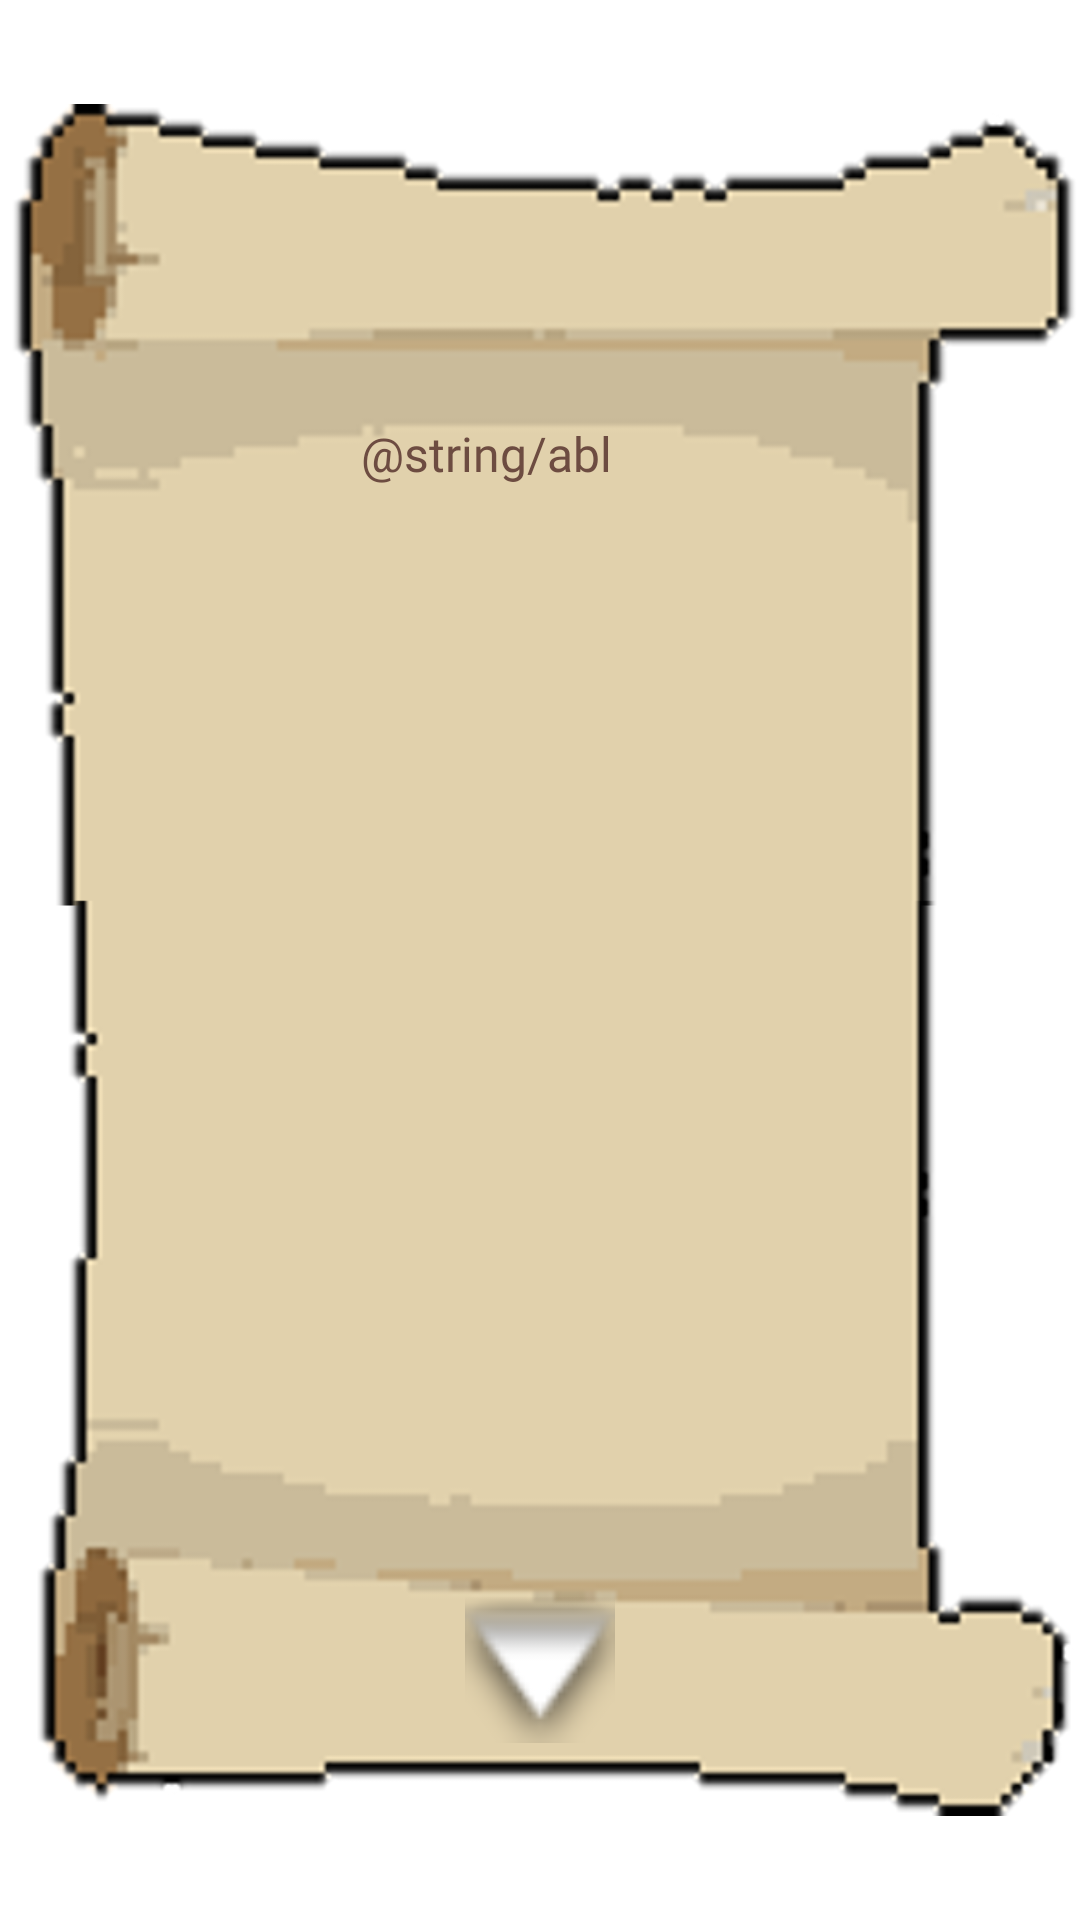

Where icons sit on this 1080 × 1920 app screen, as rect(x1, y1, x2, y2):
arrow down float: rect(465, 1593, 615, 1737)
